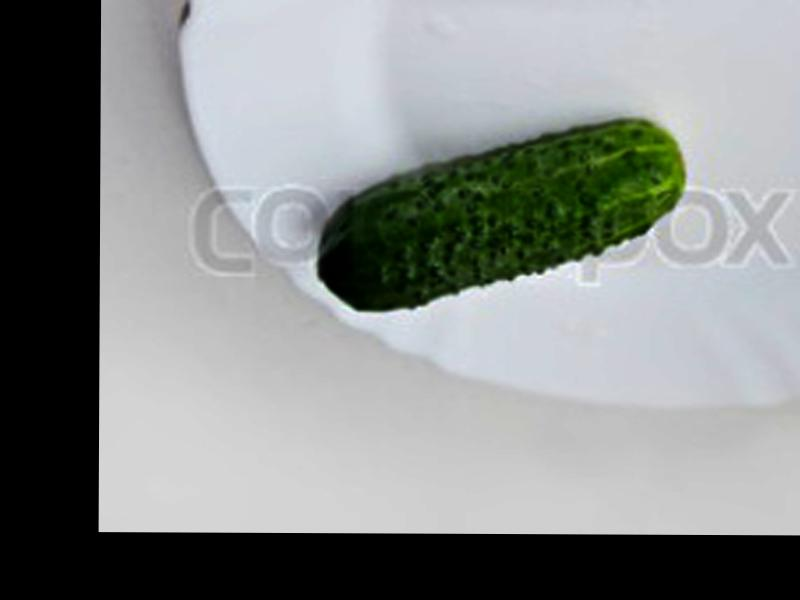Cucumber: (322, 117, 682, 312)
